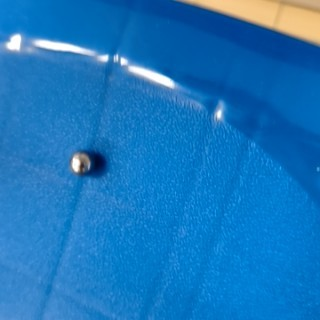ironball: (68, 149, 91, 178)
